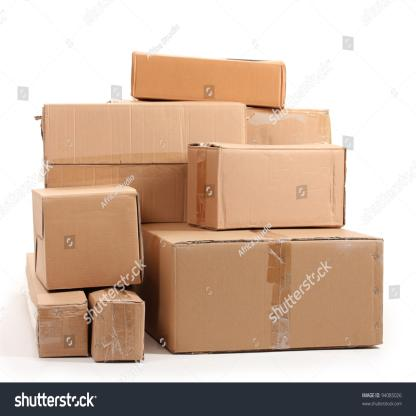box: (43, 101, 245, 224), (173, 238, 384, 353), (218, 147, 346, 227), (43, 195, 141, 294), (133, 51, 283, 108), (93, 300, 146, 362), (39, 303, 88, 358)
